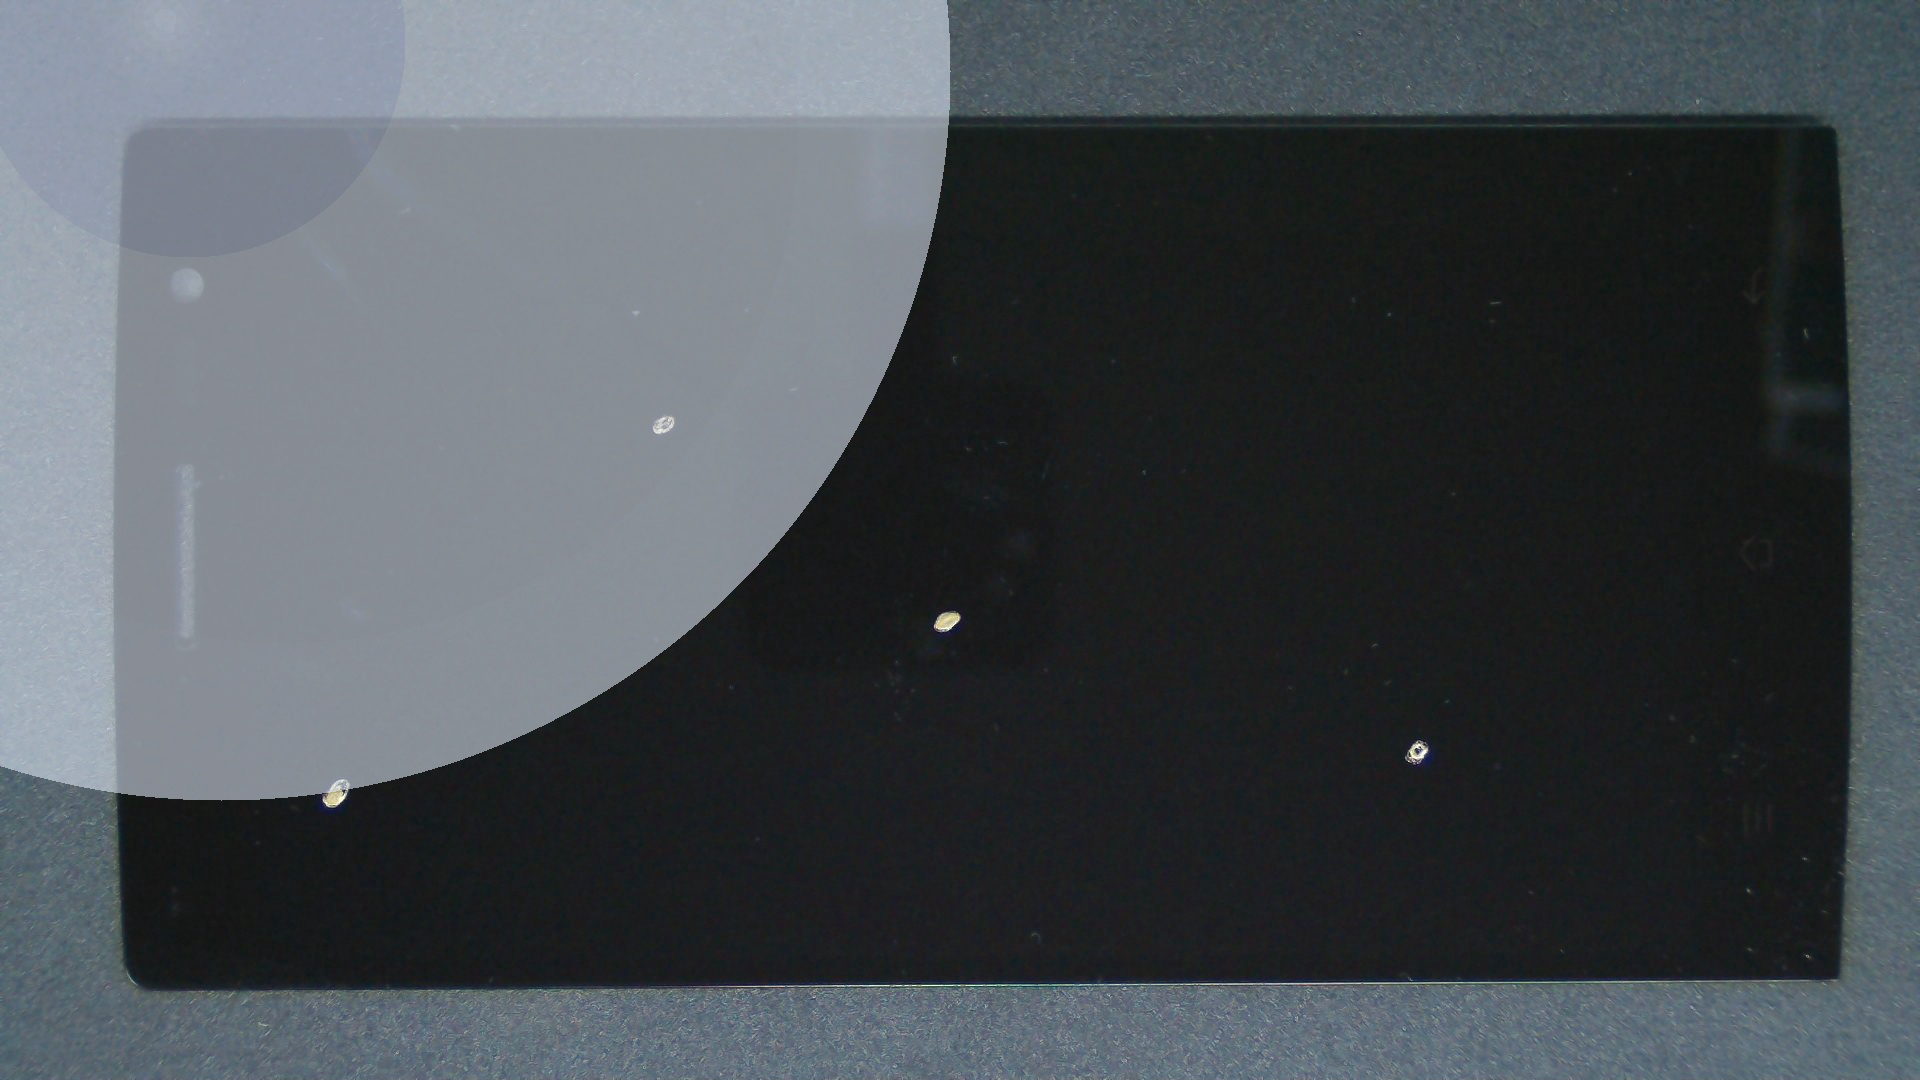oil: (709, 369, 1920, 1080), (476, 305, 1428, 915), (332, 207, 994, 621), (171, 388, 514, 1080)
